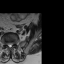CCS_severe_stenosis: (9, 42, 11, 49)
LFS_stenosis: (13, 41, 15, 46)
LLS_stenosis: (11, 42, 13, 47)
RFS_severe_stenosis: (5, 41, 7, 46)
RLS_stenosis: (7, 42, 9, 47)
